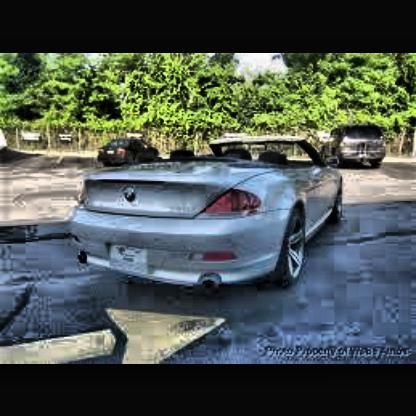BMW 6 Series Convertible 2007: (67, 135, 346, 297)
